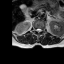CCS_normal: (38, 26, 39, 35)
LFS_normal: (41, 26, 43, 32)
LLS_normal: (39, 26, 41, 33)
RFS_normal: (34, 26, 36, 33)
RLS_normal: (36, 26, 38, 33)
